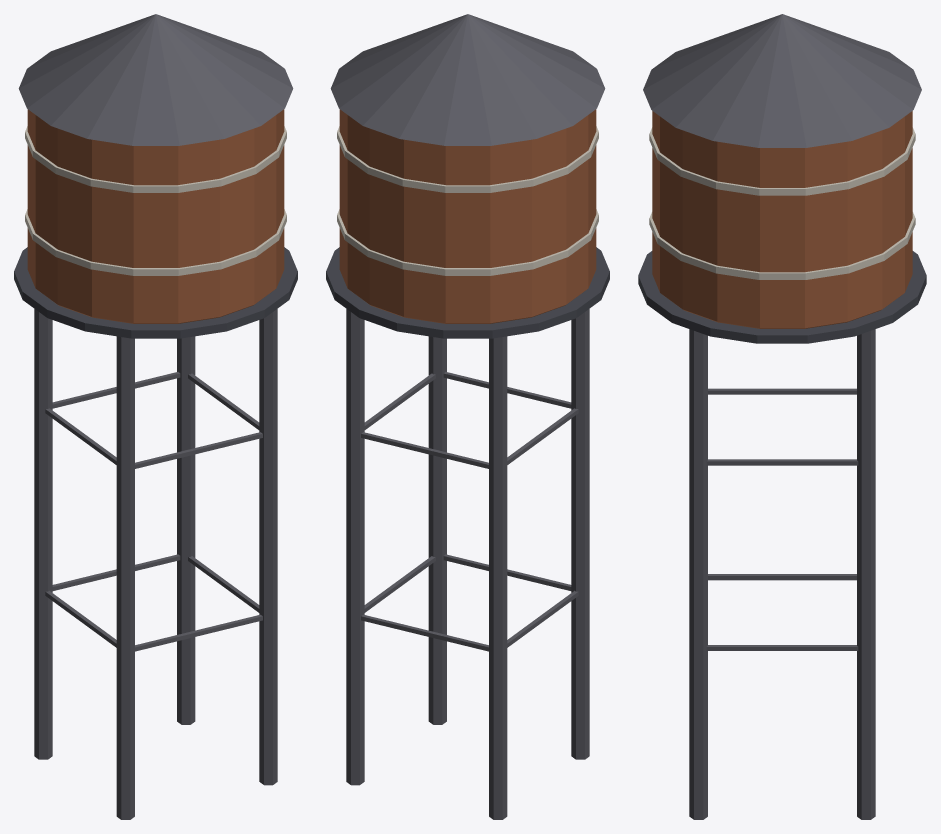
File: WaterTower.fbx
3 renders of one model, left to right at view 1: azimuth 30°, elevation 25°; view 2: azimuth 150°, elevation 25°; view 3: azimuth 270°, elevation 25°, orthographic.
Parts seen in each view (by area): view 1: WaterTower_Body, WaterTower_Legs, WaterTower_Roof, WaterTower_Frame, WaterTower_Trim; view 2: WaterTower_Body, WaterTower_Legs, WaterTower_Roof, WaterTower_Frame, WaterTower_Trim; view 3: WaterTower_Body, WaterTower_Roof, WaterTower_Legs, WaterTower_Frame, WaterTower_Trim.
Boxes of the visible parts, box(x1,y1,x2,y2) form: WaterTower_Body: box(27, 109, 284, 323); WaterTower_Legs: box(34, 309, 277, 819); WaterTower_Roof: box(18, 14, 293, 145); WaterTower_Frame: box(14, 247, 297, 338); WaterTower_Trim: box(25, 126, 286, 275); WaterTower_Body: box(339, 109, 596, 323); WaterTower_Legs: box(346, 309, 589, 819); WaterTower_Roof: box(330, 14, 605, 145); WaterTower_Frame: box(326, 247, 609, 338); WaterTower_Trim: box(337, 126, 598, 275); WaterTower_Body: box(652, 111, 912, 328); WaterTower_Roof: box(643, 14, 921, 147); WaterTower_Legs: box(689, 329, 875, 819); WaterTower_Frame: box(638, 251, 926, 343); WaterTower_Trim: box(649, 127, 915, 279).
Bounding box in the file's own units: 30.53 × 91 × 31.
